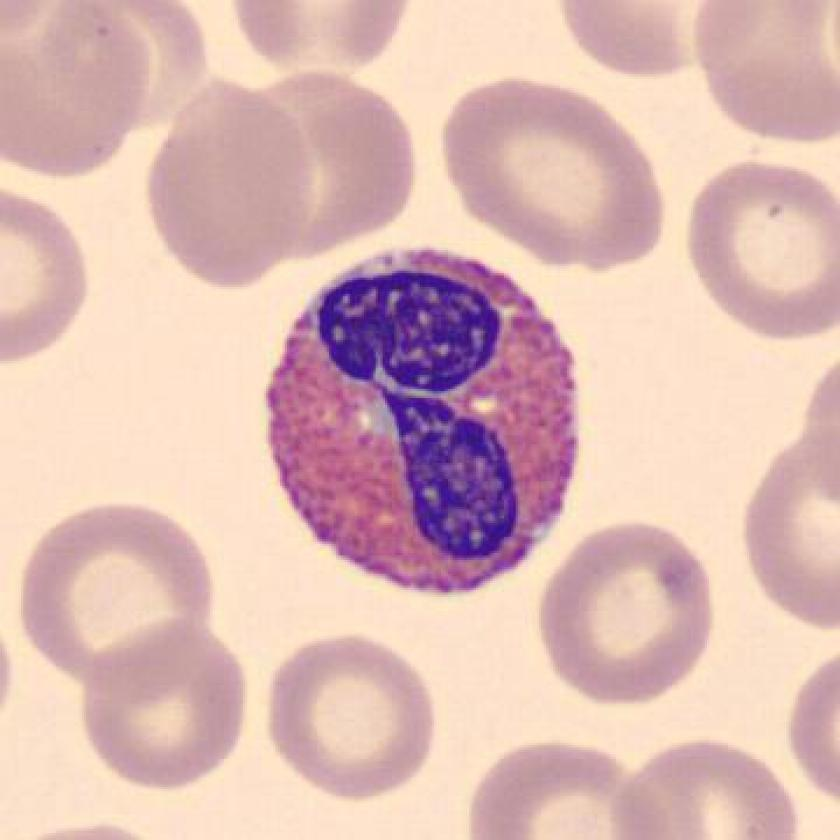eosinophil: (248, 230, 594, 605)
